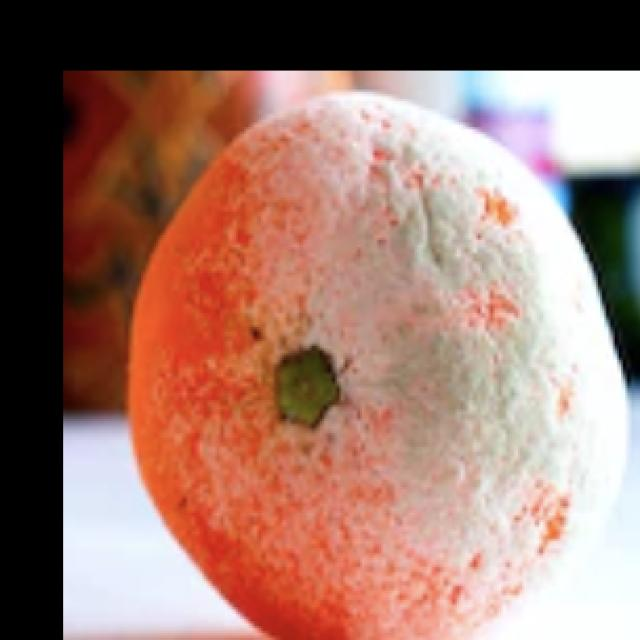sangat_busuk: (126, 91, 625, 640)
